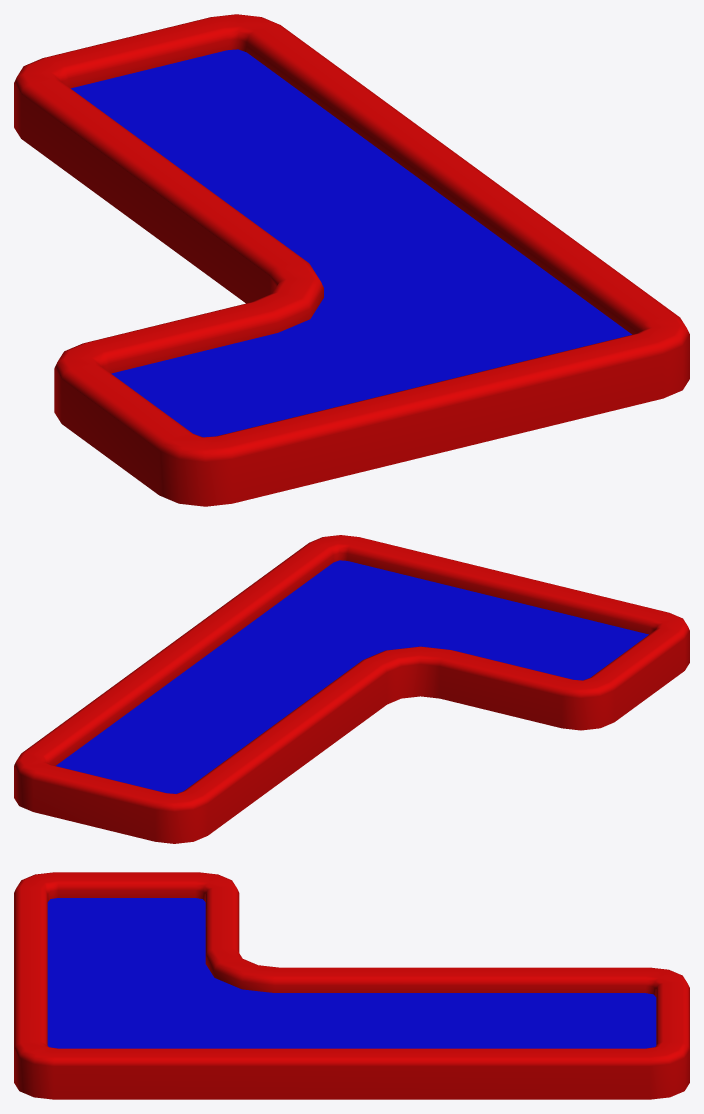
3 renders of one model, top to bottom at view 1: azimuth 30°, elevation 25°; view 2: azimuth 150°, elevation 25°; view 3: azimuth 270°, elevation 25°, orthographic. The views are drawn at different scales.
Parts seen in each view (by area): view 1: 2x3; view 2: 2x3; view 3: 2x3.
Part boxes in pixels (x1,y1,x2,y2): 2x3: (14, 14, 689, 506); 2x3: (14, 535, 689, 843); 2x3: (14, 872, 689, 1099).
Size of the model in its own units: 400 by 38.86 by 600.
